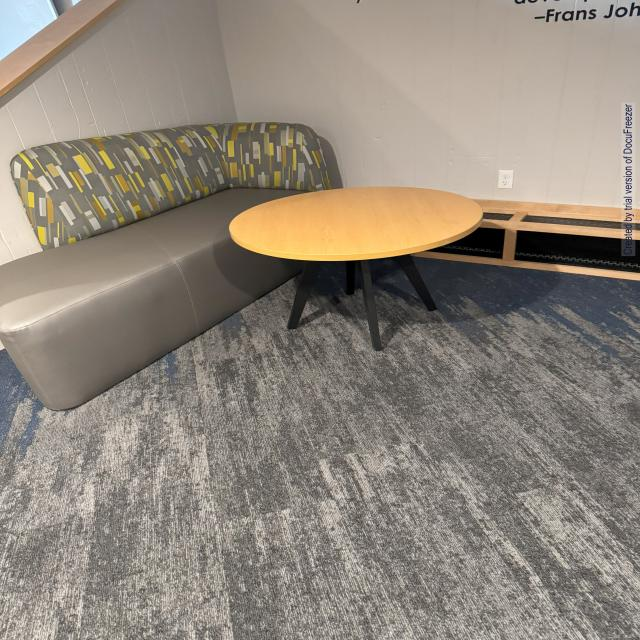Table: (210, 180, 502, 350)
